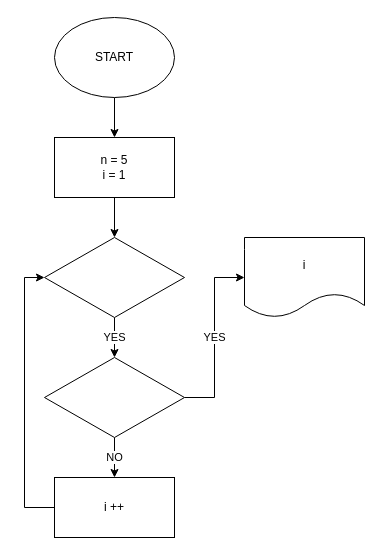
The diagram is 382 pixels wide and 555 high, and some of its shapes have lost their labels. The box of each missing label's shape, as (x1, y1, x2, y2) in pixels:
i % 2 == 0: (44, 356, 184, 438)
i < = n: (44, 236, 184, 318)
